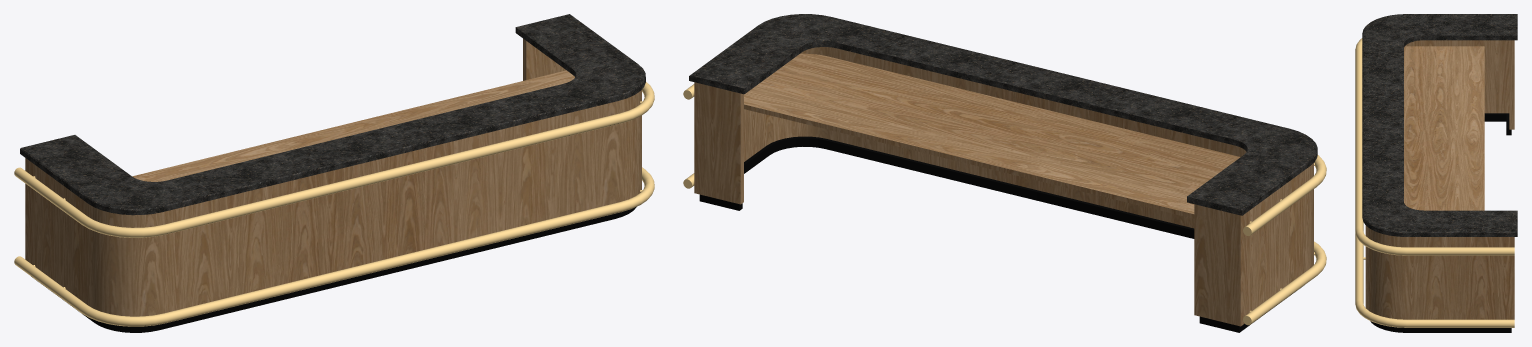
File: reception.glb
3 views of the same model, side by side, from view 1: azimuth 30°, elevation 25°; view 2: azimuth 150°, elevation 25°; view 3: azimuth 270°, elevation 25° (orthographic). The views are drawn at different scales.
Visible parts, largest first — view 1: reception; view 2: reception; view 3: reception.
Boxes of the visible parts, <box> form: reception: <box>14,14,654,332</box>; reception: <box>683,14,1326,332</box>; reception: <box>1355,14,1517,332</box>.
Bounding box in the file's own units: 5.14 × 1.1 × 1.57.
4 materials, 3 textured.
